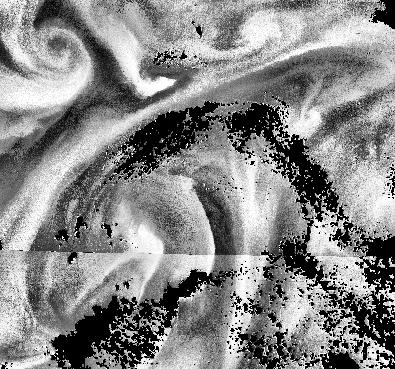CE: (31, 21, 89, 69)
